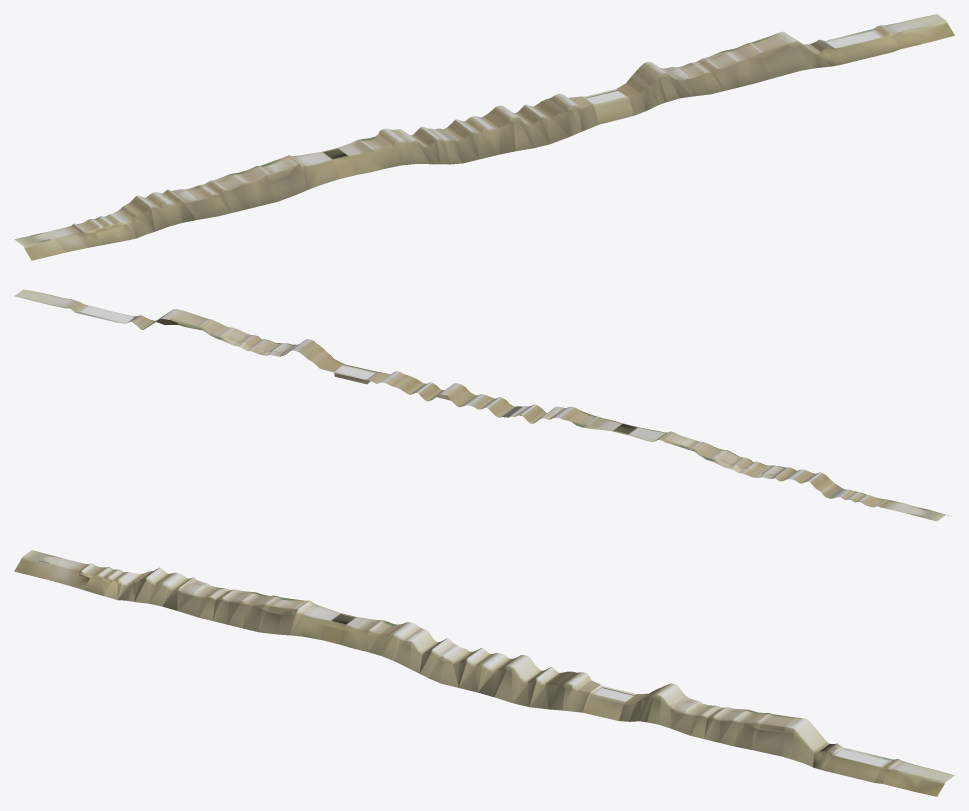
File: Beach_13.fbx
3 renders of one model, top to bottom at view 1: azimuth 30°, elevation 25°; view 2: azimuth 150°, elevation 25°; view 3: azimuth 330°, elevation 25°, orthographic.
Visible parts, largest first — view 1: Road_01, Sea_01; view 2: Road_01, Sea_01; view 3: Road_01, Sea_01.
Part boxes in pixels (x1,y1,x2,y2): Road_01: (14, 14, 954, 260); Sea_01: (586, 31, 880, 104); Road_01: (14, 289, 948, 521); Sea_01: (81, 306, 374, 380); Road_01: (14, 550, 954, 796); Sea_01: (594, 688, 887, 766).
Bounding box in the file's own units: 80124 × 2947 × 3743.
